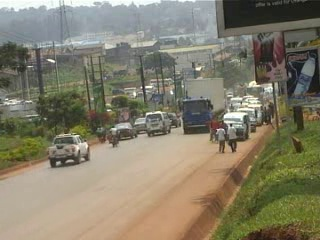Car: (113, 120, 138, 139), (131, 114, 149, 133), (167, 110, 183, 129)
Motorcycle: (108, 123, 121, 149)
